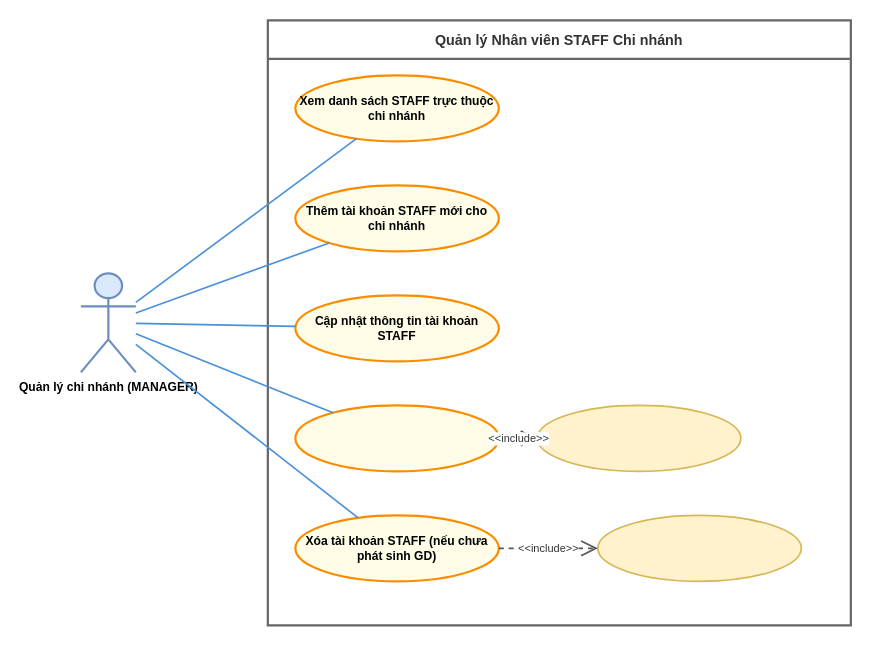
Some shapes in this 871 by 645 pixel diagram are drawn without their labels. Here are the shapes that lost their labels. From the top down, the box of each, then its label:
(294, 404, 499, 472): Khóa / Mở khóa tài khoản STAFF
(536, 404, 741, 472): Kiểm tra tự khóa chính mình (bị cấm)
(597, 514, 802, 582): Kiểm tra ràng buộc khóa ngoại (receipts/stocktakes)
